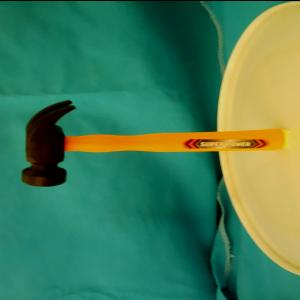martelo: (21, 98, 287, 186)
